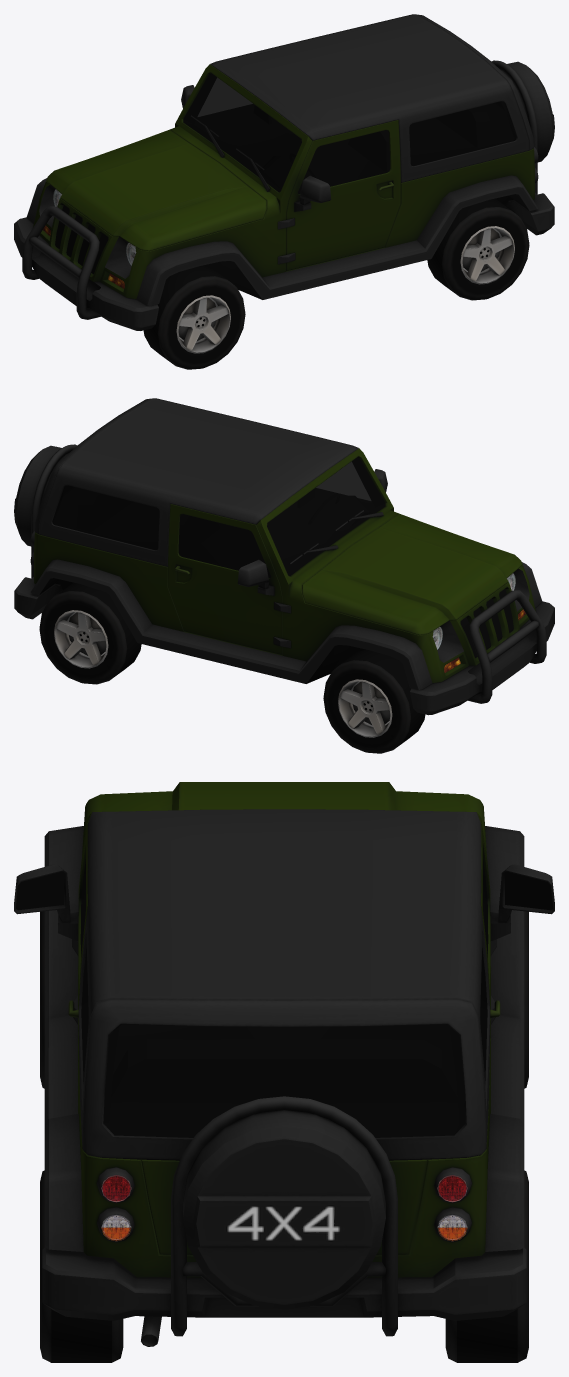
File: jeep.glb
3 views of the same model, one above another, from view 1: azimuth 30°, elevation 25°; view 2: azimuth 150°, elevation 25°; view 3: azimuth 270°, elevation 25° (orthographic). The views are drawn at different scales.
Visible parts, largest first — view 1: Offroad Body, Wheel_G, Wheel_G001; view 2: Offroad Body, Wheel_G001_Wheel_0.001, Wheel_G002; view 3: Offroad Body, Wheel_G001, Wheel_G002, Wheel_G, Wheel_G001_Wheel_0.001.
Part boxes in pixels (bbox=[...]): Offroad Body: bbox=[14, 14, 554, 330]; Wheel_G: bbox=[143, 265, 245, 369]; Wheel_G001: bbox=[427, 198, 529, 300]; Offroad Body: bbox=[14, 398, 554, 715]; Wheel_G001_Wheel_0.001: bbox=[323, 649, 425, 753]; Wheel_G002: bbox=[39, 582, 141, 684]; Offroad Body: bbox=[14, 782, 554, 1346]; Wheel_G001: bbox=[40, 1170, 123, 1362]; Wheel_G002: bbox=[445, 1170, 528, 1362]; Wheel_G: bbox=[40, 911, 44, 1088]; Wheel_G001_Wheel_0.001: bbox=[524, 911, 528, 1088].
Size of the model in its own units: 4.6 by 1.83 by 2.29.
4 materials, 3 textured.
